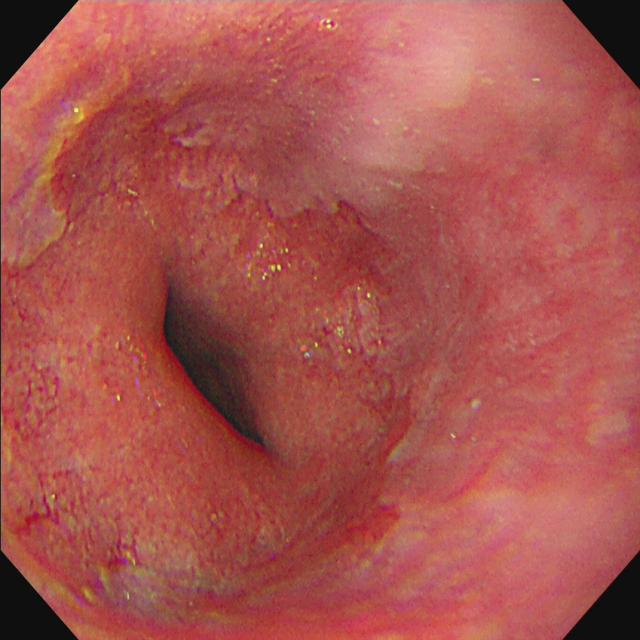D: (2, 289, 137, 590)
E: (150, 281, 278, 467)
